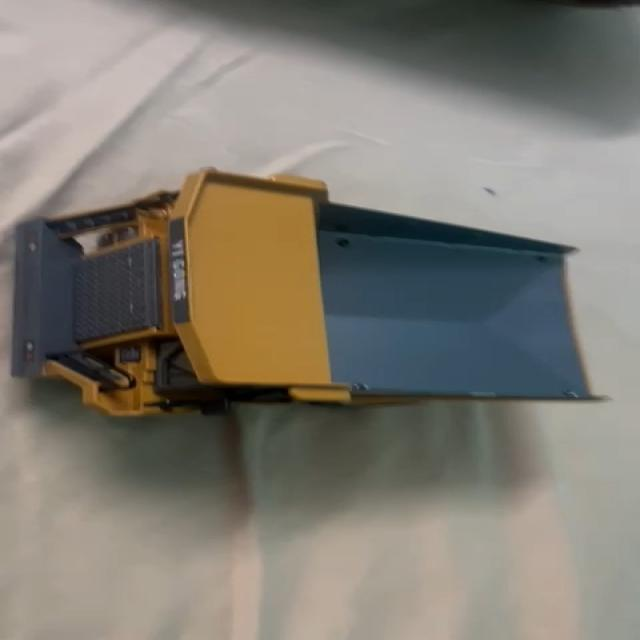dump_truck: (1, 168, 614, 438)
